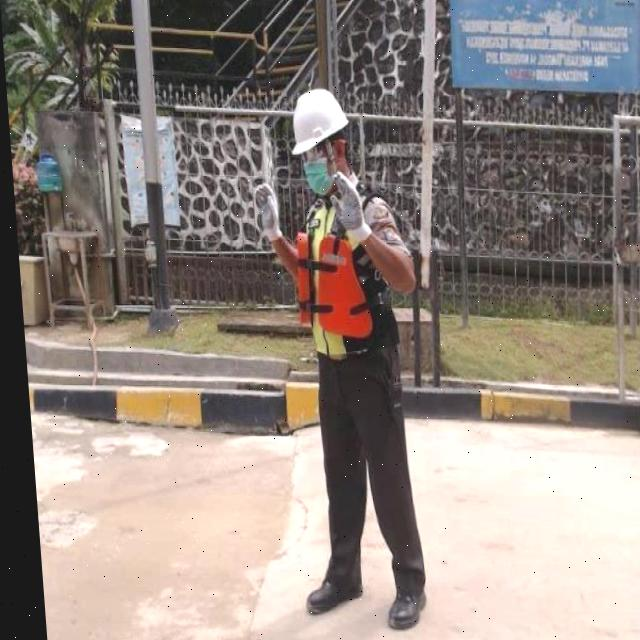Gloves: (329, 170, 363, 231), (251, 182, 280, 241)
Helmet: (287, 88, 353, 157)
Safety-Vest: (287, 194, 375, 355)
